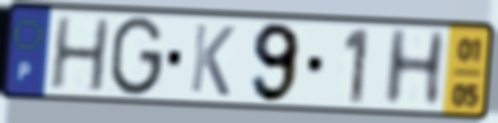1: (341, 26, 373, 107)
9: (248, 21, 305, 105)
G: (106, 14, 167, 99)
H: (380, 27, 450, 109), (46, 15, 113, 95)
K: (187, 21, 238, 100)
